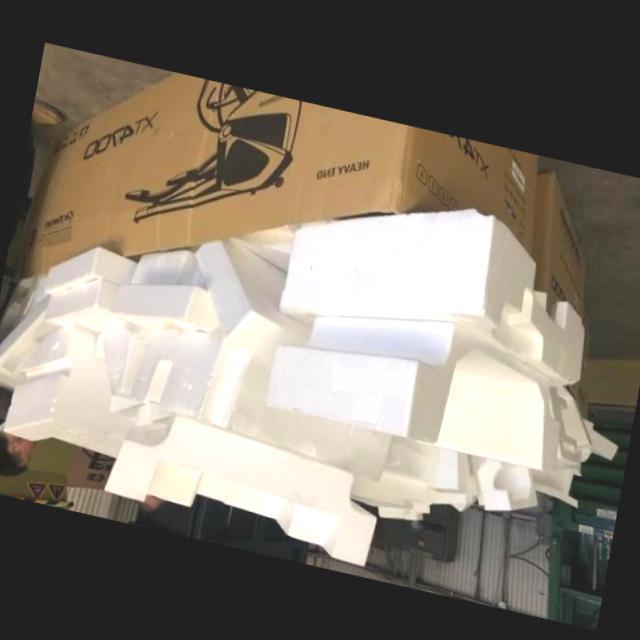styrofoam: (280, 202, 581, 376), (267, 312, 557, 463), (104, 413, 377, 563), (128, 330, 392, 477), (2, 326, 124, 457), (194, 237, 311, 351)
